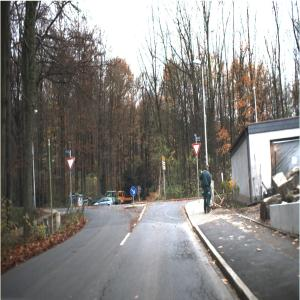give way: (192, 143, 202, 158), (67, 159, 76, 173)
keep right: (131, 187, 137, 198)
